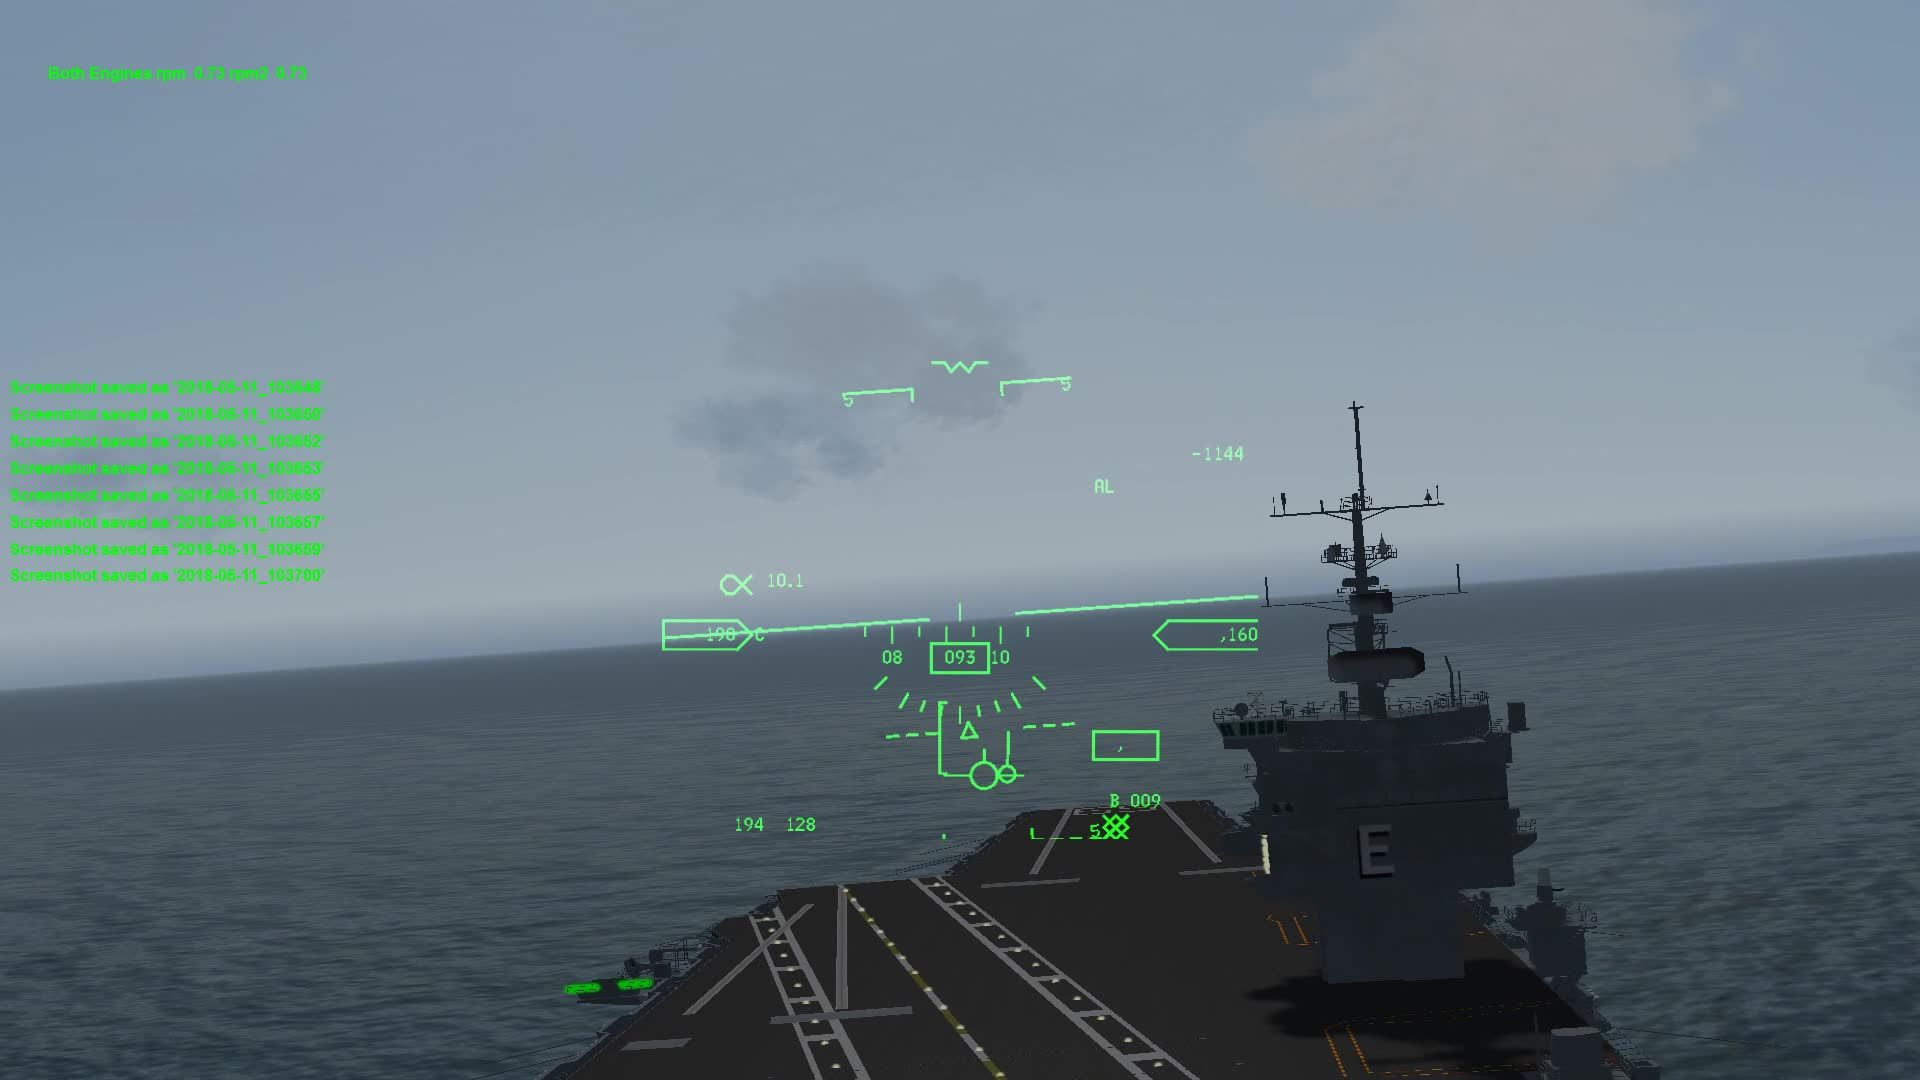speed vector: (938, 748, 1033, 800)
